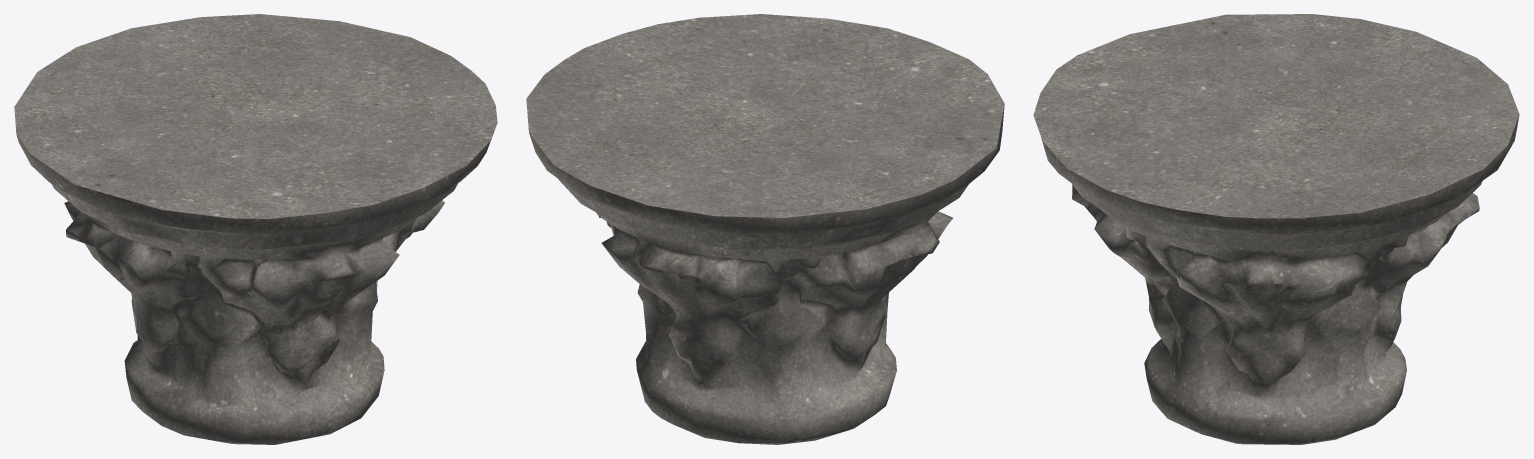
File: SM_Pillar_Top.fbx
3 renders of one model, left to right at view 1: azimuth 30°, elevation 25°; view 2: azimuth 150°, elevation 25°; view 3: azimuth 270°, elevation 25°, orthographic.
Visible parts, largest first — view 1: SM_Pillar_Top_LOD0; view 2: SM_Pillar_Top_LOD0; view 3: SM_Pillar_Top_LOD0.
Part boxes in pixels (x1=…): SM_Pillar_Top_LOD0: x1=14, y1=14, x2=497, y2=444; SM_Pillar_Top_LOD0: x1=526, y1=14, x2=1004, y2=444; SM_Pillar_Top_LOD0: x1=1033, y1=14, x2=1519, y2=444.
Size of the model in its own units: 282 by 283 by 182.
